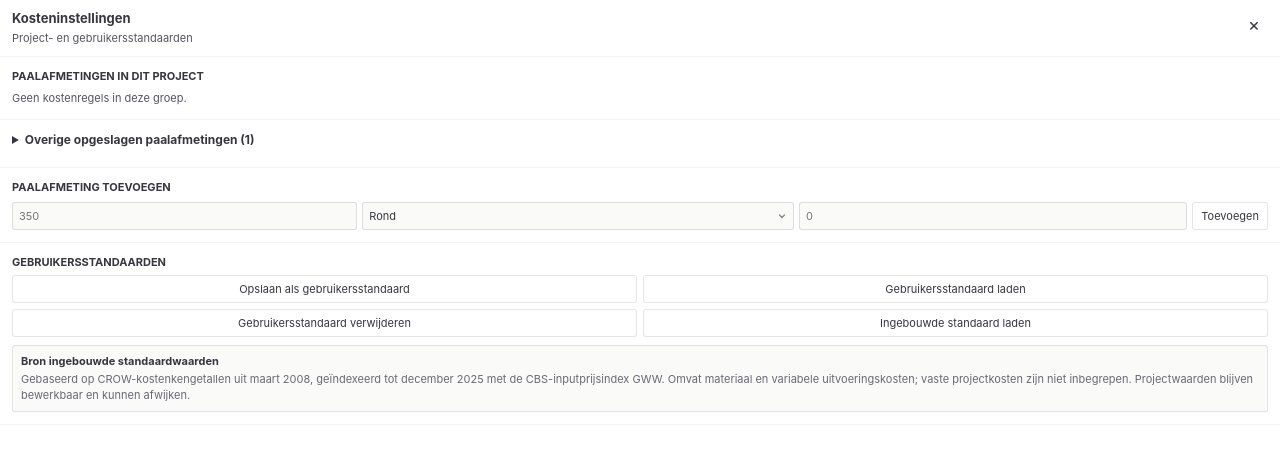
duplicate cost rows show the specific error in nl and retain the draft
The width and height of the screenshot is (1280, 470).
Type "290" into the field named "Afmeting" at (185, 216), box [12,202,357,230]
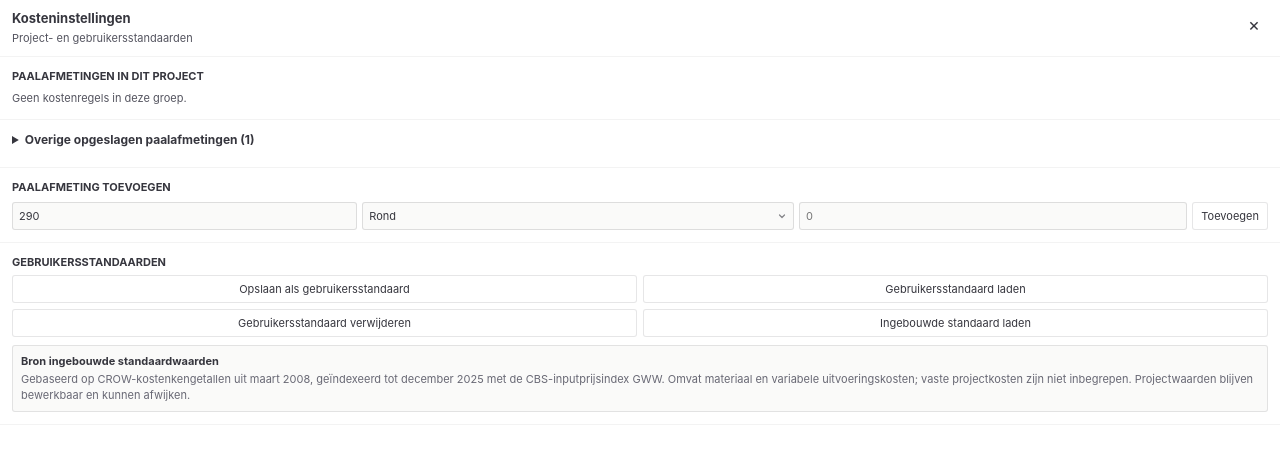
Type "500" into the field named "Kosten per m³" at (993, 216), box [799,202,1187,230]
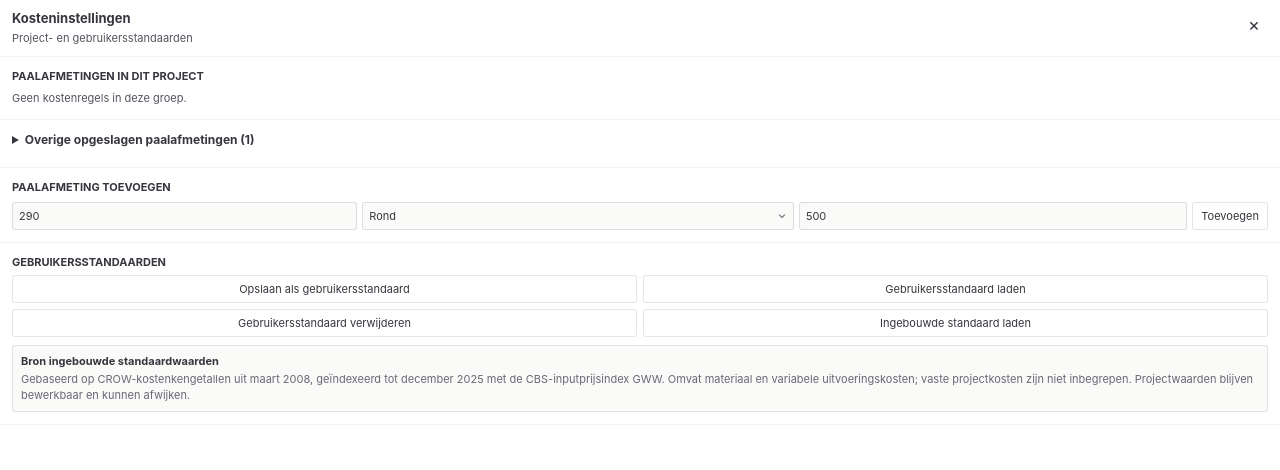
Click the button "Toevoegen" at (1230, 216), box [1192,202,1268,230]
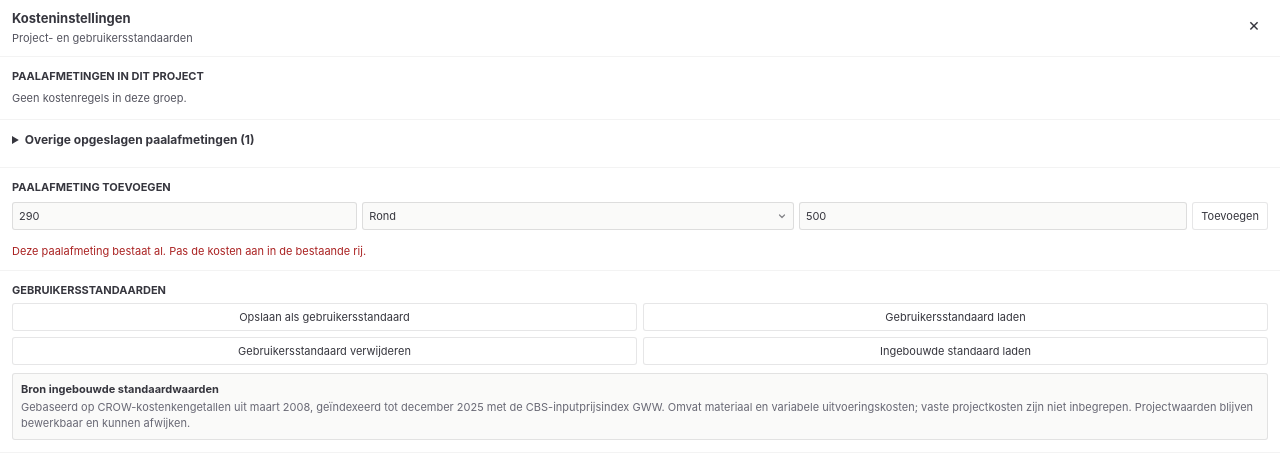
Expected: the message reads "Deze paalafmeting bestaat al. Pas de kosten aan in de bestaande rij.", [12,244,366,258]
